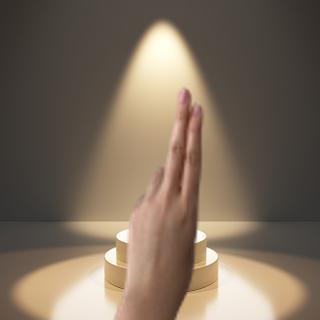DHAVE: (120, 84, 207, 310)
